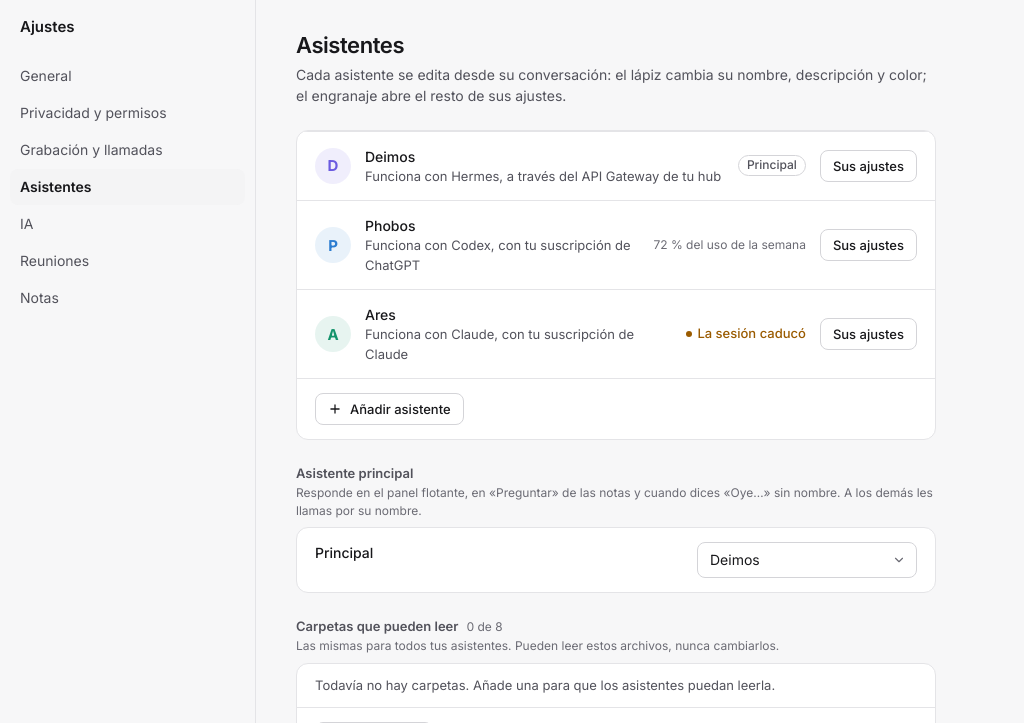
Test: Ajustes › Asistentes › a primary the hub refuses says why and the selector stays as it was
Select "Phobos" in the dropdown labelled "Principal". click: [807, 560]
box: [698,543,916,577]
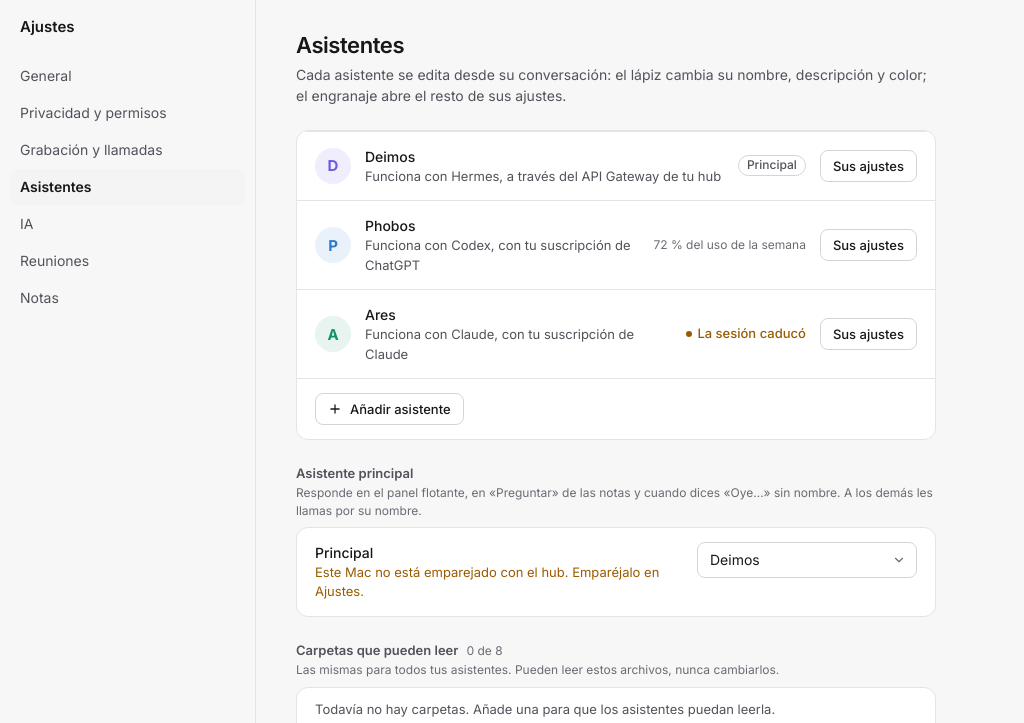
Expected: the message reads "Este Mac no está emparejado con el hub. Emparéjalo en Ajustes.", [315,564,659,600]
